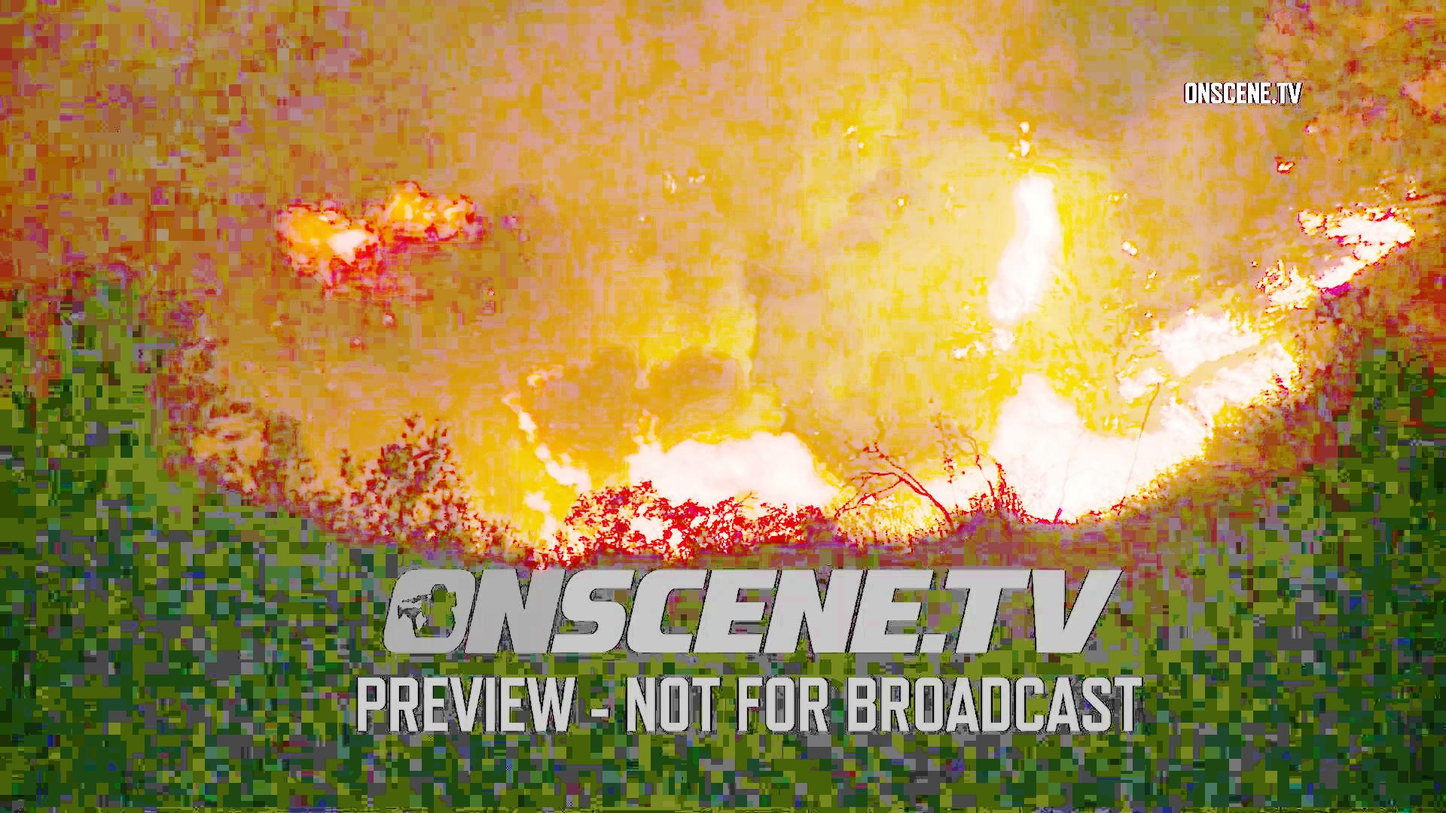fire: (507, 392, 838, 535), (978, 364, 1138, 514), (1155, 309, 1285, 438)
